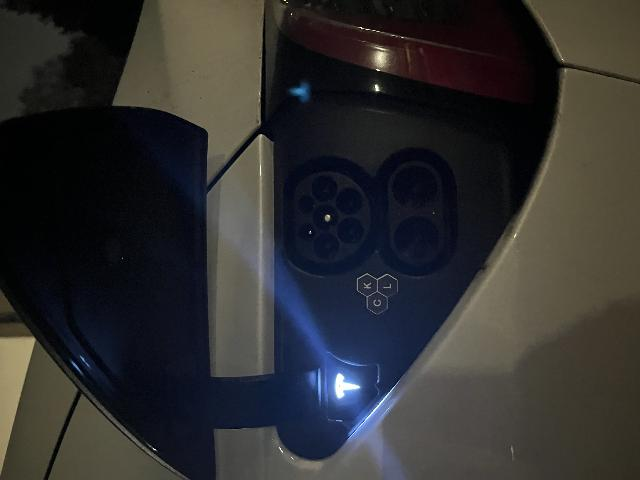inlet: (217, 294, 309, 371)
inlet-above-left: (236, 298, 257, 315)
inlet-above-right: (266, 297, 286, 315)
inlet-below-left: (236, 337, 263, 364)
inlet-below-right: (265, 336, 293, 362)
inlet-circle: (250, 313, 276, 338)
inlet-circle-left: (221, 314, 247, 339)
inlet-circle-right: (279, 312, 305, 337)
inlet-minus: (271, 392, 314, 438)
inlet-plus: (221, 394, 264, 439)
